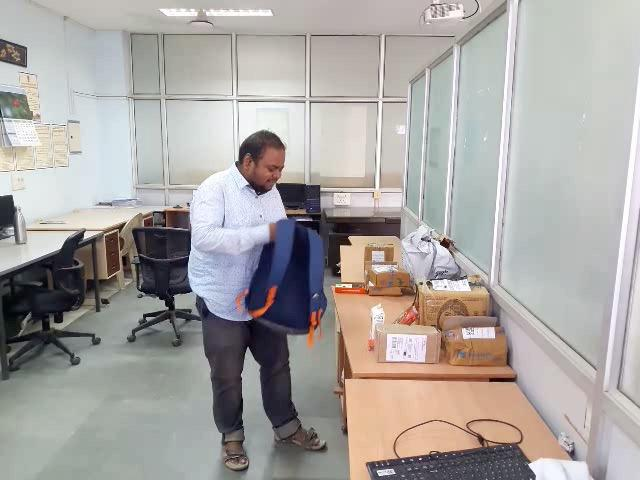shoplifting: (181, 204, 329, 387)
